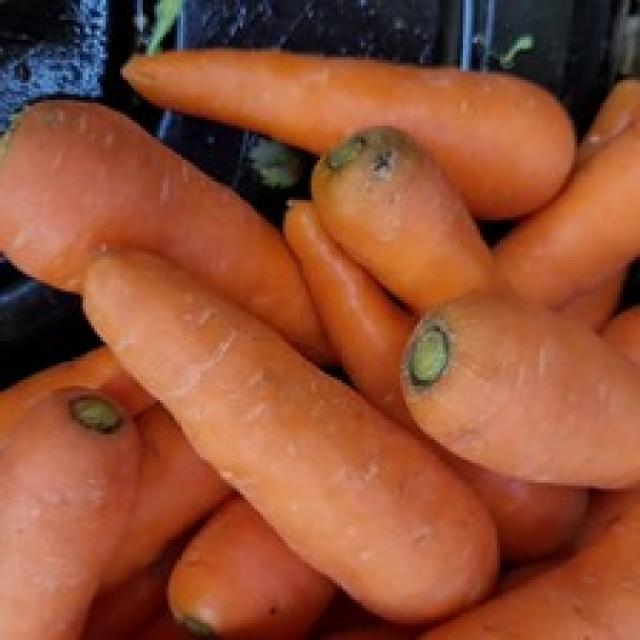Fresh_Carrot: (30, 254, 510, 605), (18, 100, 296, 338), (0, 354, 220, 640), (301, 99, 511, 307), (426, 286, 630, 452)
